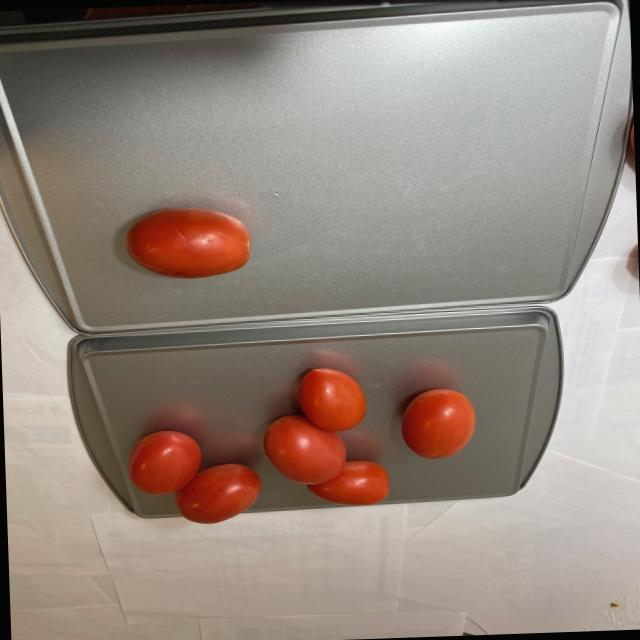tomato: (120, 356, 498, 524), (112, 204, 255, 286)
